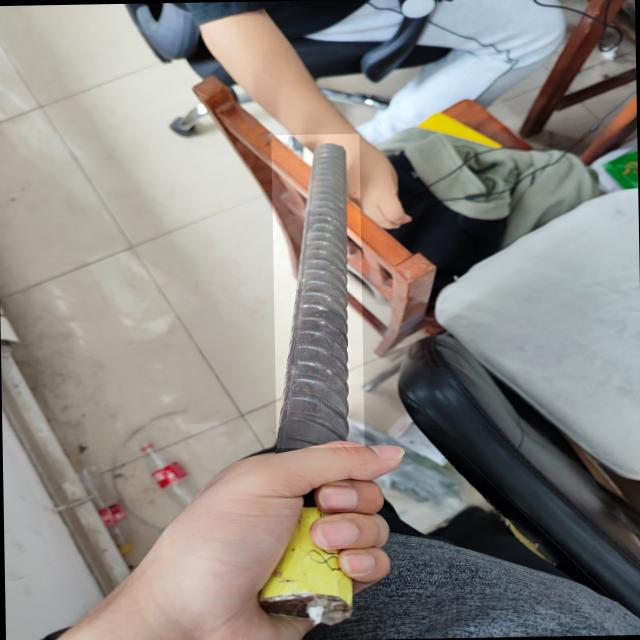ribbed bar: (270, 133, 364, 448)
